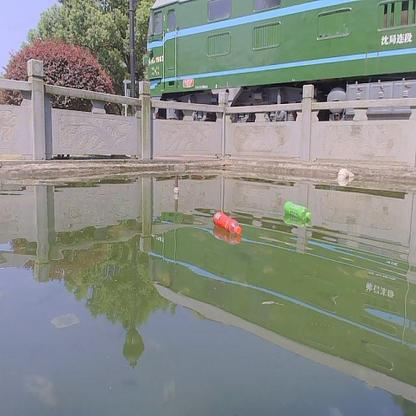plastic bottle: (211, 211, 242, 235), (284, 201, 310, 220)
